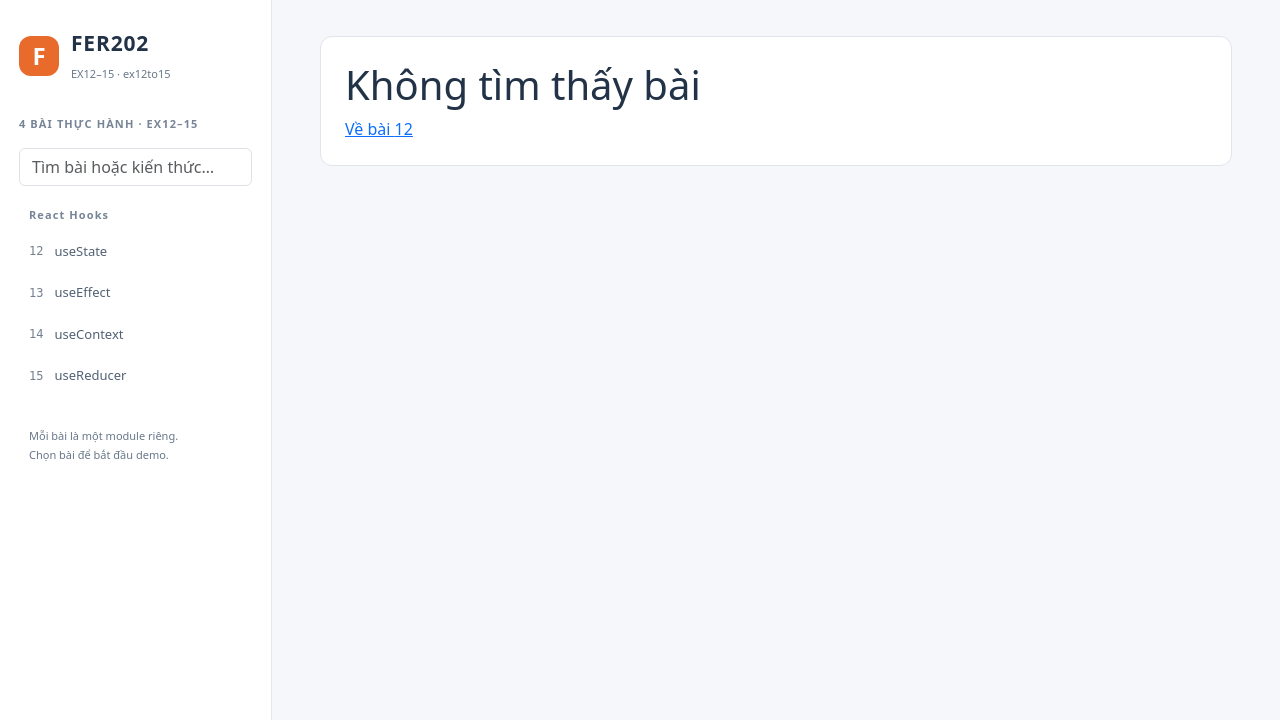
Scenario: route ngoài nhóm có liên kết quay về bài đầu
The width and height of the screenshot is (1280, 720).
Check: the heading "Không tìm thấy bài" is shown, box x1=345 y1=57 x2=701 y2=112
Click the link "Về bài 12" at (370, 129), box x1=345 y1=118 x2=413 y2=140
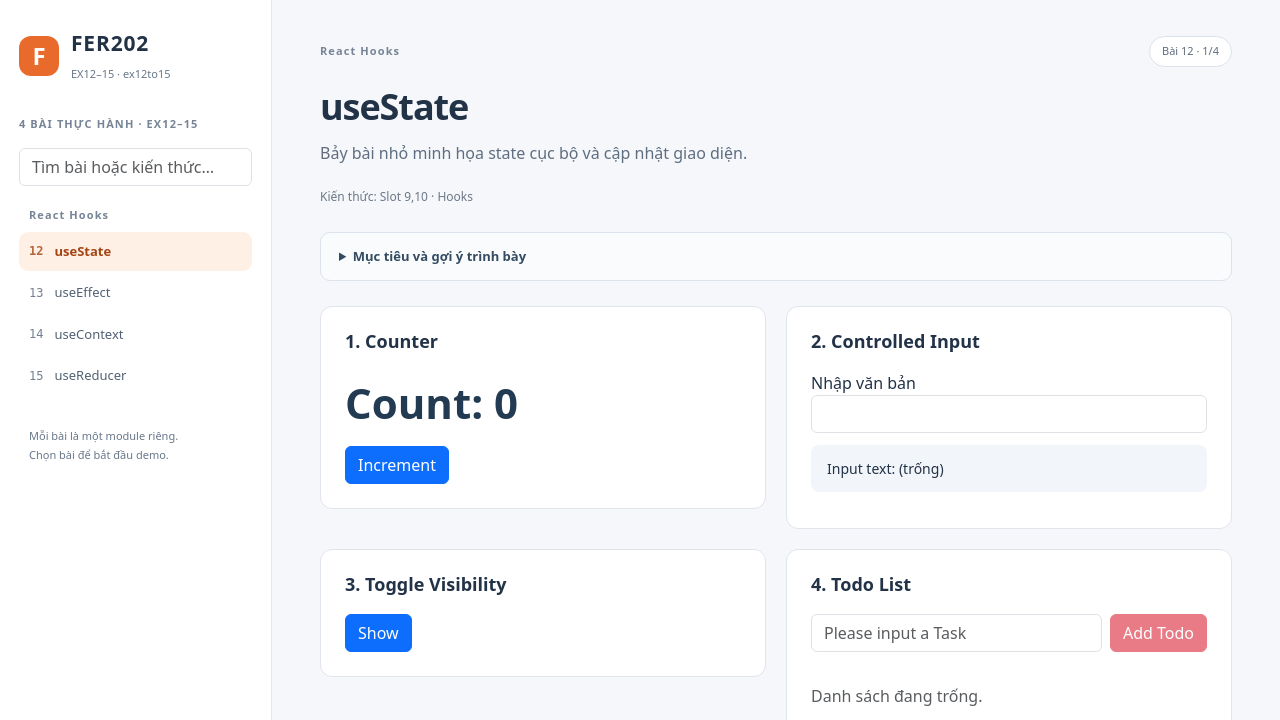
Check: the heading "useState" is shown, box x1=320 y1=82 x2=468 y2=130
